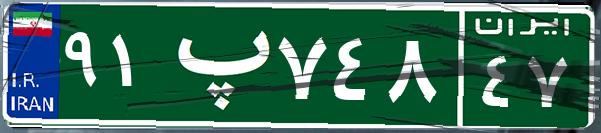1: (110, 28, 158, 105)
4: (330, 28, 385, 110), (475, 38, 525, 113)
7: (273, 28, 330, 110), (525, 38, 570, 115)
8: (385, 28, 445, 110)
9: (57, 26, 110, 107)
پ: (158, 15, 273, 115)
